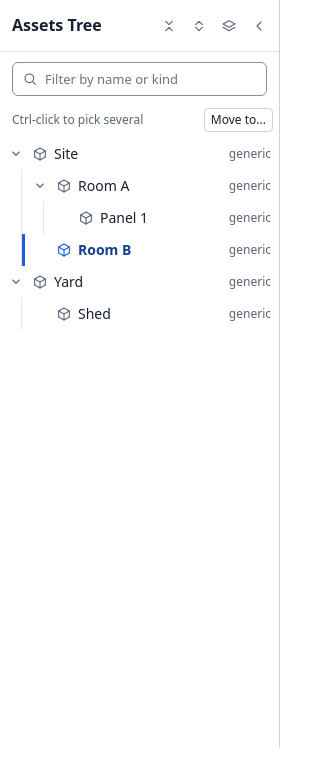
the count and the open asset › goes away when the open asset is picked too
Click the link "Room A" at (104, 186), box [78,176,129,195]
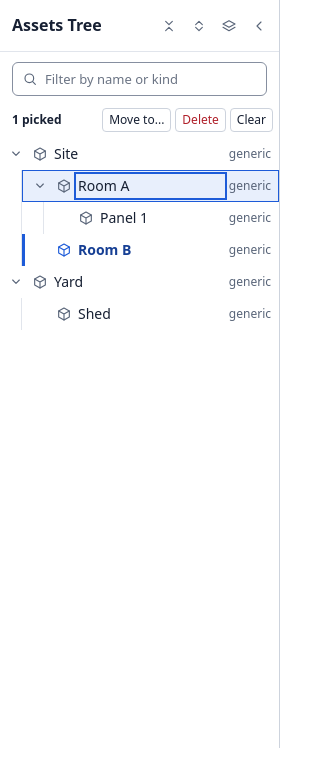
Click the link "Room B" at (105, 250), box [78,240,131,259]
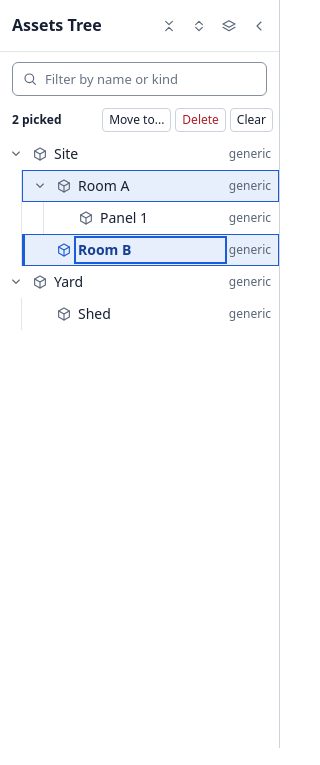
Result: the element named "Selection" shows "2 picked" at [12,111,62,128]
